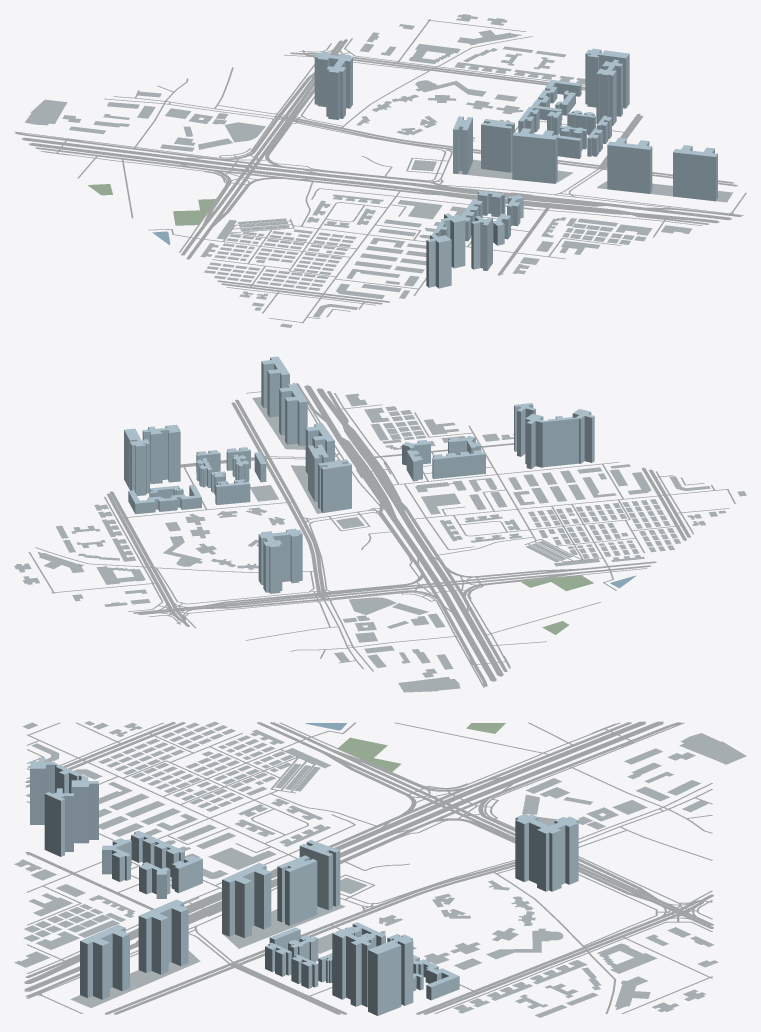
Rendered from -15_4-known-coarse.glb.
The picture shows the model from 3 angles, top to bottom: view 1: azimuth 30°, elevation 25°; view 2: azimuth 150°, elevation 25°; view 3: azimuth 270°, elevation 25°; orthographic projection. The views are drawn at different scales.
Bounding box in the file's own units: 1021 × 99 × 1065.
